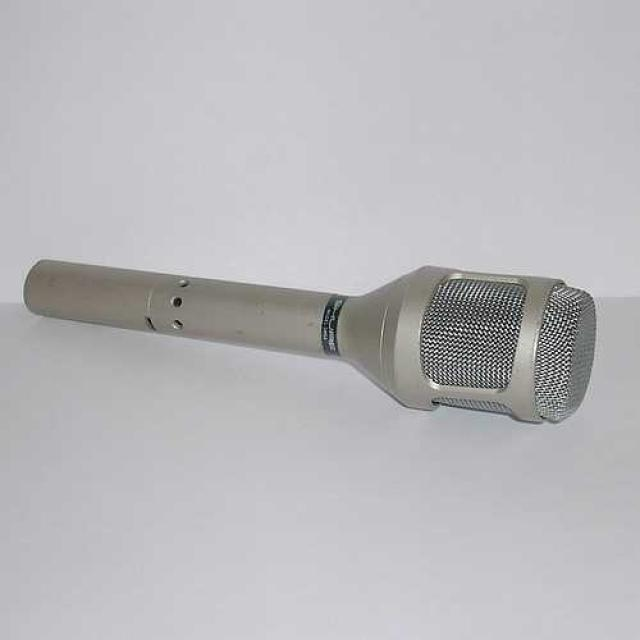microphone: (22, 256, 584, 422)
